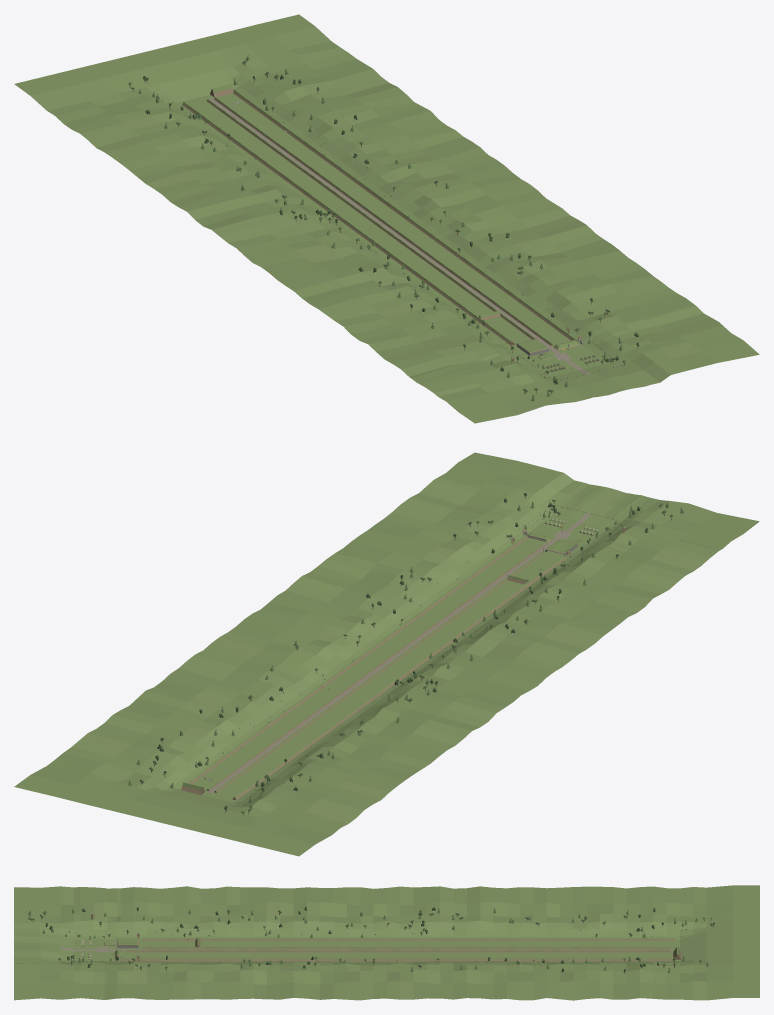
3 views of the same model, one above another, from view 1: azimuth 30°, elevation 25°; view 2: azimuth 150°, elevation 25°; view 3: azimuth 270°, elevation 25° (orthographic). The views are drawn at different scales.
Visible parts, largest first — view 1: Ground, Berm outer 1, Berm outer -1, Ground road, Berm road 1, Berm road -1; view 2: Ground, Berm outer 1, Berm outer -1, Ground road, Berm road 1, Berm road -1; view 3: Ground, Berm outer 1, Berm road 1, Berm road -1, Berm outer -1, Ground road.
Part boxes in pixels (<box>): Ground: <box>14,14,759,423</box>; Berm outer 1: <box>233,89,577,341</box>; Berm outer -1: <box>182,101,515,345</box>; Ground road: <box>209,98,590,374</box>; Berm road 1: <box>214,97,552,345</box>; Berm road -1: <box>206,99,535,339</box>; Ground: <box>14,452,759,856</box>; Berm outer 1: <box>187,535,527,783</box>; Berm outer -1: <box>232,556,565,800</box>; Ground road: <box>208,513,590,793</box>; Berm road 1: <box>206,542,545,791</box>; Berm road -1: <box>214,551,543,792</box>; Ground: <box>14,885,759,1000</box>; Berm outer 1: <box>122,957,674,960</box>; Berm road 1: <box>126,949,670,952</box>; Berm road -1: <box>142,946,670,949</box>; Berm outer -1: <box>142,938,674,940</box>; Ground road: <box>60,947,673,950</box>.
Bounding box in the file's own units: 400 × 27.09 × 1120.
61 materials, 1 textured.
